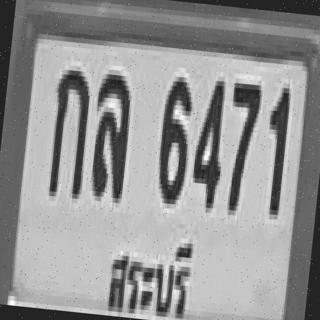A01: (46, 64, 92, 194)
A36: (86, 68, 133, 198)
N01: (259, 82, 290, 210)
N04: (188, 74, 228, 208)
N06: (154, 71, 193, 200)
N07: (220, 78, 260, 212)
P60: (96, 226, 200, 320)
